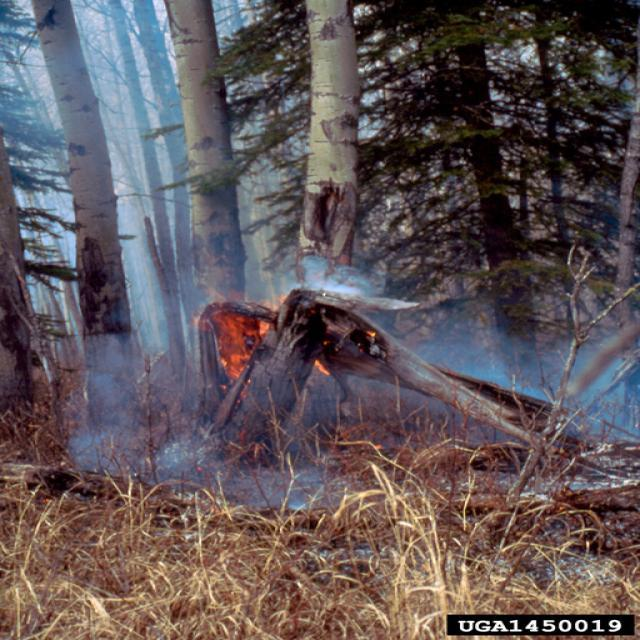Fire: (191, 286, 331, 403)
